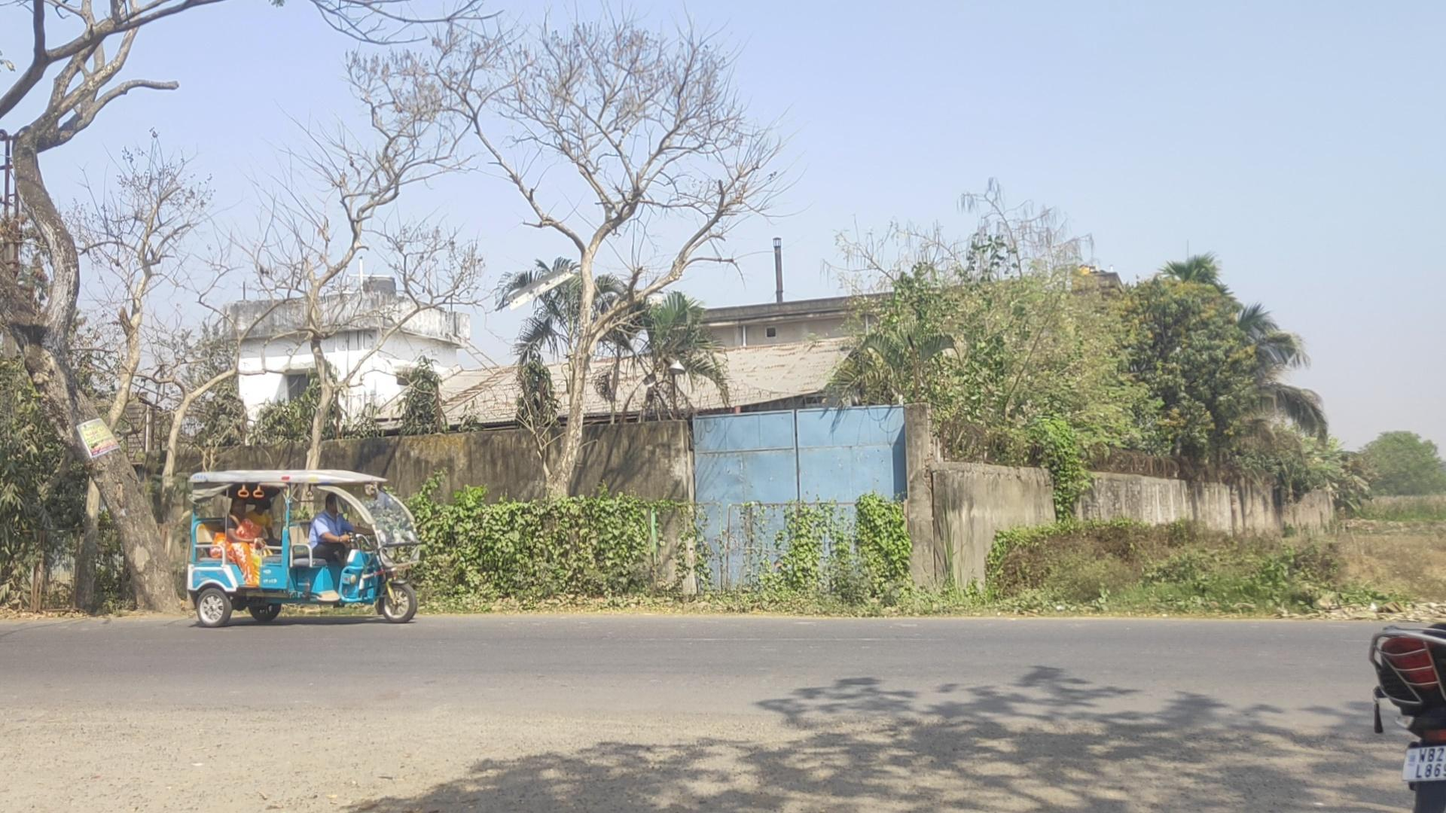Auto: (186, 470, 422, 628)
